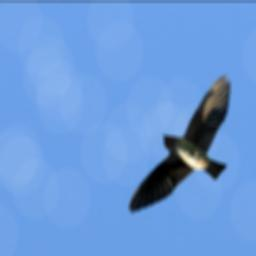Swallow: (132, 74, 235, 215)
